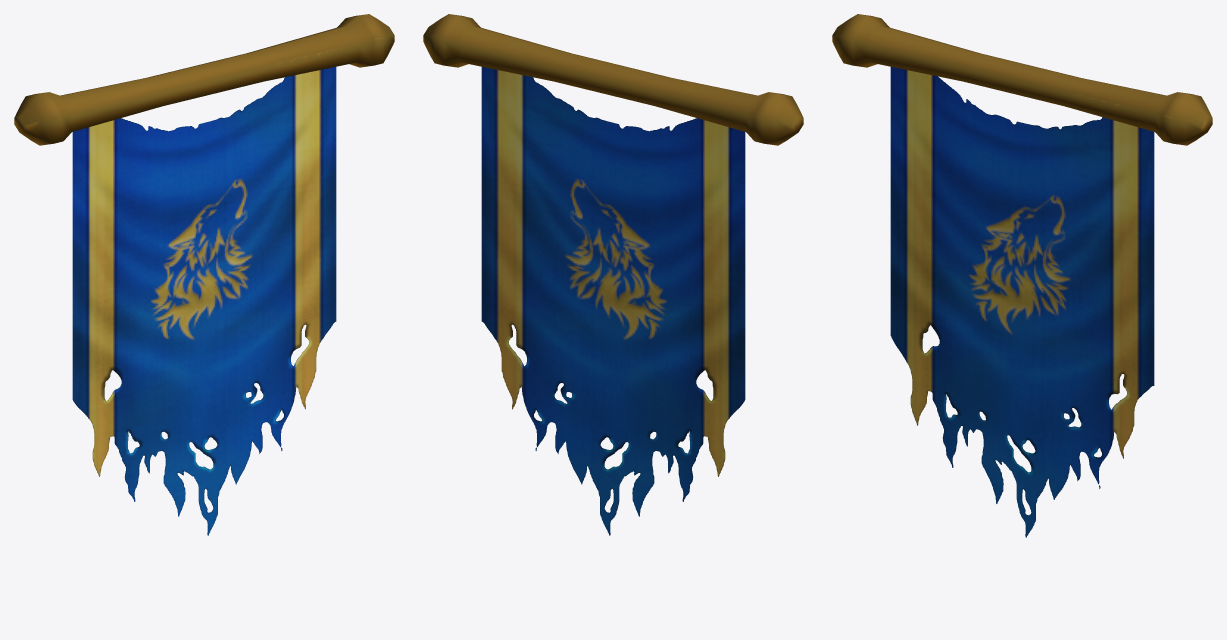
File: ARC0510127.fbx
The picture shows the model from 3 angles, left to right: view 1: azimuth 30°, elevation 25°; view 2: azimuth 150°, elevation 25°; view 3: azimuth 330°, elevation 25°; orthographic projection.
Visible parts, largest first — view 1: smARC0510127; view 2: smARC0510127; view 3: smARC0510127.
Boxes of the visible parts, box(x1,y1,x2,y2) form: smARC0510127: box(14, 14, 394, 535); smARC0510127: box(423, 14, 803, 535); smARC0510127: box(832, 14, 1212, 537).
Bounding box in the file's own units: 133 × 185 × 17.65.
Materials: 1 (1 with a texture image).
